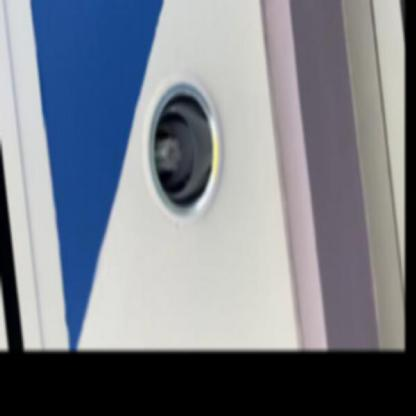light_off: (130, 33, 233, 239)
